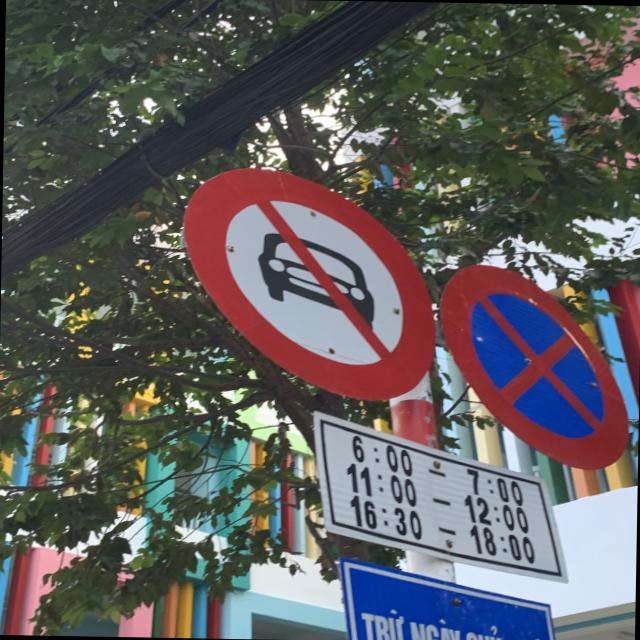Cam_Dung_Va_Dau_Xe: (437, 262, 637, 468)
Cam_O_To: (180, 165, 438, 398)
